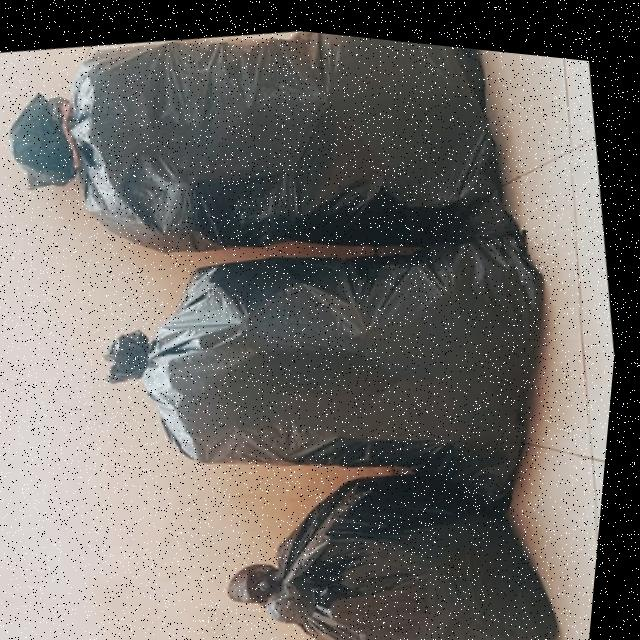black_plastic_bag: (67, 169, 596, 552), (0, 0, 541, 317), (198, 414, 593, 640)
